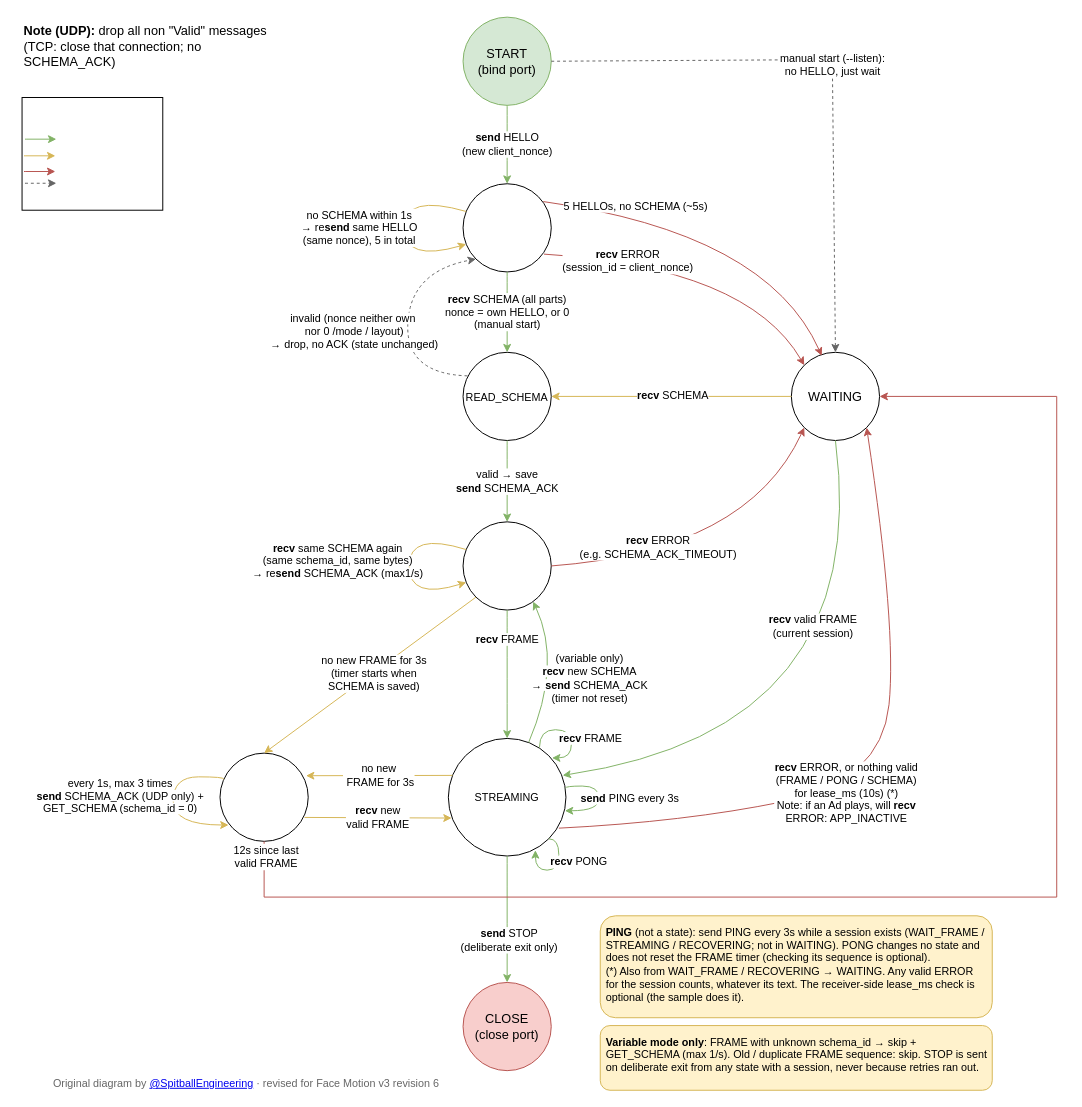
Image size: 1082x1107. Some labels were removed from this diagram. The centre of each missing label's shape, as x and y in pixels:
Key: : "standard path" : recovering : error : special case: the point at 92,153
RECOVERING: the point at 263,796
WAIT_FRAME: the point at 506,565
WAIT_SCHEMA: the point at 506,227
